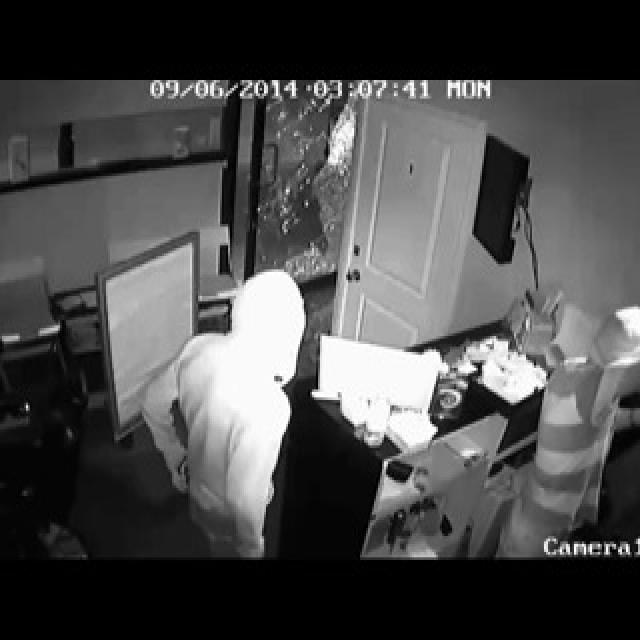thief: (142, 254, 312, 552), (519, 299, 639, 541)
